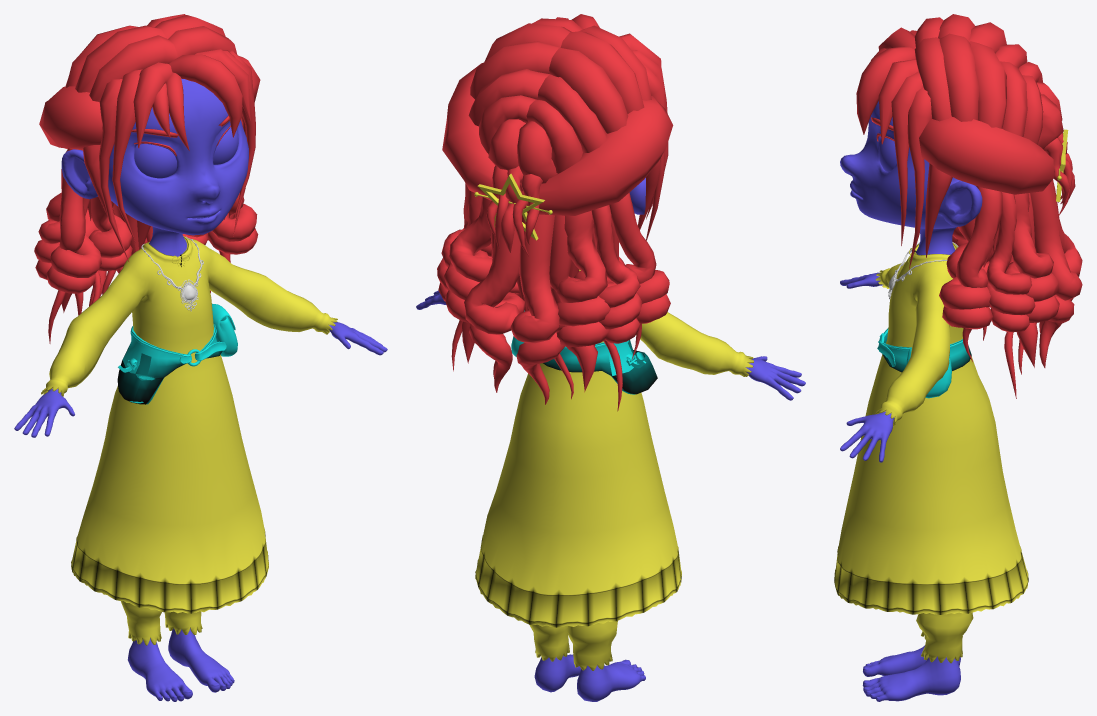
File: Leonora_UVs.fbx
The picture shows the model from 3 angles, left to right: view 1: azimuth 30°, elevation 25°; view 2: azimuth 150°, elevation 25°; view 3: azimuth 270°, elevation 25°; orthographic projection. The views are drawn at different scales.
Visible parts, largest first — view 1: GEO_Dress, GEO_Head, GEO_Hair.006, GEO_Hair.022, GEO_Hair.011, GEO_Feets, GEO_Hair.002, GEO_Belt, GEO_Hair.019, GEO_Hair.016, GEO_Hands, GEO_Pants (+6 smaller); view 2: GEO_Dress, GEO_Hair.022, GEO_Hair.002, GEO_Hair.014, GEO_Hair.012, GEO_Hair.007, GEO_Hair.011, GEO_Feets, GEO_Pants, GEO_Belt, GEO_Hair.006, GEO_Hair.009 (+7 smaller); view 3: GEO_Dress, GEO_Hair.022, GEO_Hair.002, GEO_Head, GEO_Hair.006, GEO_Hair.011, GEO_Hair.007, GEO_Hair.014, GEO_Feets, GEO_Hair.012, GEO_Pants, GEO_Hair.019 (+7 smaller).
Part boxes in pixels (x1,y1,x2,y2): GEO_Dress: (41,236,337,613); GEO_Head: (61,78,248,256); GEO_Hair.006: (83,49,255,261); GEO_Hair.022: (65,14,237,101); GEO_Hair.011: (46,148,258,315); GEO_Feets: (127,628,234,701); GEO_Hair.002: (39,55,260,149); GEO_Belt: (117,323,222,404); GEO_Hair.019: (169,54,242,137); GEO_Hair.016: (88,196,207,294); GEO_Hands: (14,322,387,437); GEO_Pants: (121,601,202,645); GEO_Dress: (475,269,753,627); GEO_Hair.022: (468,18,651,173); GEO_Hair.002: (442,63,673,215); GEO_Hair.014: (464,214,564,404); GEO_Hair.012: (444,196,610,392); GEO_Hair.007: (437,190,642,411); GEO_Hair.011: (463,183,670,359); GEO_Feets: (534,654,645,701); GEO_Pants: (529,621,617,670); GEO_Belt: (543,340,657,394); GEO_Hair.006: (555,17,668,240); GEO_Hair.009: (490,215,573,399); GEO_Dress: (834,243,1028,614); GEO_Hair.022: (914,14,1043,144); GEO_Hair.002: (919,116,1054,194); GEO_Head: (840,101,982,255); GEO_Hair.006: (878,27,952,269); GEO_Hair.011: (939,186,1002,361); GEO_Hair.007: (986,192,1035,398); GEO_Hair.014: (1030,180,1082,367); GEO_Feets: (862,645,960,701); GEO_Hair.012: (1005,193,1059,367); GEO_Pants: (916,612,973,663); GEO_Hair.019: (856,46,915,134).
Bounding box in the file's own units: 83.51 × 142 × 48.73.
